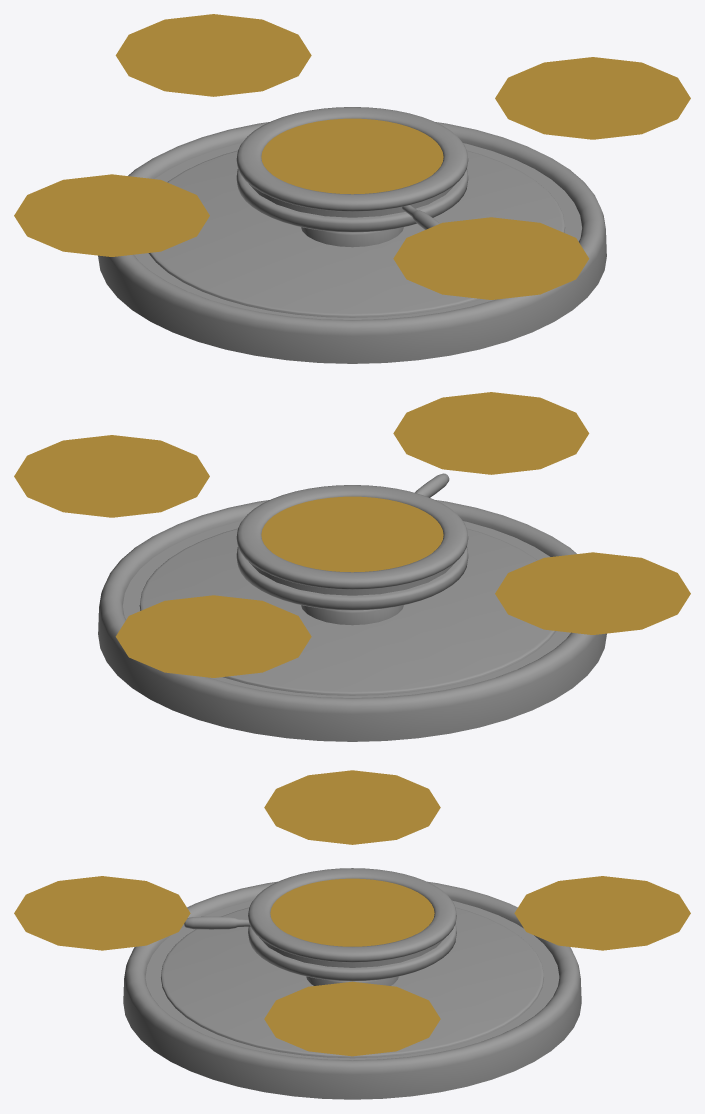
Rendered from SM_StarLineHandle.FBX.
The picture shows the model from 3 angles, top to bottom: view 1: azimuth 30°, elevation 25°; view 2: azimuth 150°, elevation 25°; view 3: azimuth 270°, elevation 25°; orthographic projection. The views are drawn at different scales.
Visible parts, largest first — view 1: HandlePlatform01_low, HandleCircle01_low, PlaneLine03, PlaneLine05, PlaneLine02, PlaneLine04, PlaneLine01, HandlePlatform02_low, HandleCircle02_low; view 2: HandlePlatform01_low, HandleCircle01_low, PlaneLine03, PlaneLine05, PlaneLine02, PlaneLine04, PlaneLine01, HandlePlatform02_low, HandleCircle02_low; view 3: HandlePlatform01_low, HandleCircle01_low, PlaneLine05, PlaneLine02, PlaneLine04, PlaneLine03, PlaneLine01, HandlePlatform02_low, HandleCircle02_low, Handle_low.
Boxes of the visible parts, left/top/right/bottom form: HandlePlatform01_low: left=98, top=122, right=606, bottom=363; HandleCircle01_low: left=236, top=107, right=468, bottom=232; PlaneLine03: left=495, top=57, right=690, bottom=139; PlaneLine05: left=14, top=174, right=209, bottom=256; PlaneLine02: left=115, top=14, right=311, bottom=96; PlaneLine04: left=393, top=217, right=589, bottom=299; PlaneLine01: left=261, top=118, right=443, bottom=194; HandlePlatform02_low: left=134, top=143, right=581, bottom=319; HandleCircle02_low: left=249, top=184, right=455, bottom=217; HandlePlatform01_low: left=98, top=500, right=606, bottom=741; HandleCircle01_low: left=236, top=485, right=468, bottom=610; PlaneLine03: left=14, top=435, right=209, bottom=517; PlaneLine05: left=495, top=552, right=690, bottom=634; PlaneLine02: left=115, top=595, right=311, bottom=677; PlaneLine04: left=393, top=392, right=589, bottom=474; PlaneLine01: left=261, top=496, right=443, bottom=572; HandlePlatform02_low: left=123, top=521, right=570, bottom=697; HandleCircle02_low: left=249, top=562, right=455, bottom=595; HandlePlatform01_low: left=123, top=881, right=581, bottom=1099; HandleCircle01_low: left=248, top=868, right=456, bottom=981; PlaneLine05: left=264, top=770, right=440, bottom=844; PlaneLine02: left=514, top=876, right=690, bottom=950; PlaneLine04: left=14, top=876, right=190, bottom=950; PlaneLine03: left=264, top=981, right=440, bottom=1056; PlaneLine01: left=270, top=878, right=434, bottom=946; HandlePlatform02_low: left=145, top=900, right=559, bottom=1060; HandleCircle02_low: left=259, top=937, right=445, bottom=967; Handle_low: left=184, top=916, right=250, bottom=929.
Bounding box in the file's own units: 5.41 × 0.8173 × 5.41.
